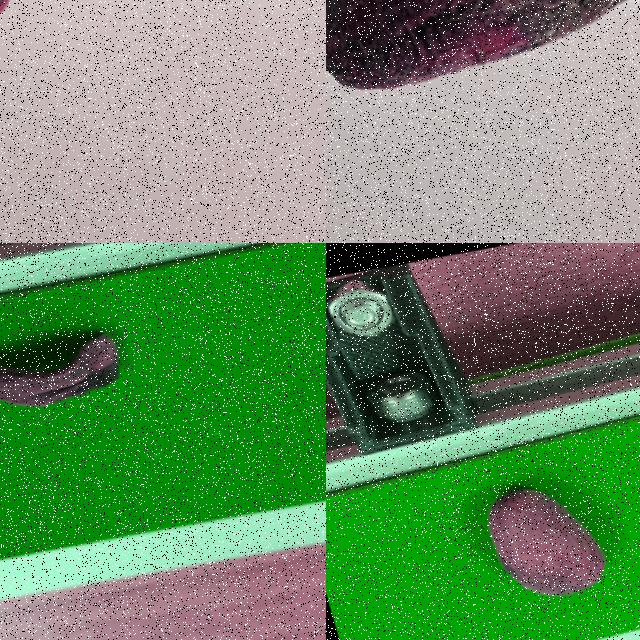Agglomerated_cocoabeans: (0, 0, 325, 137), (326, 0, 639, 131)
Fine_cocoabeans: (361, 398, 639, 639)
Flat_cocoabeans: (0, 280, 197, 464)
